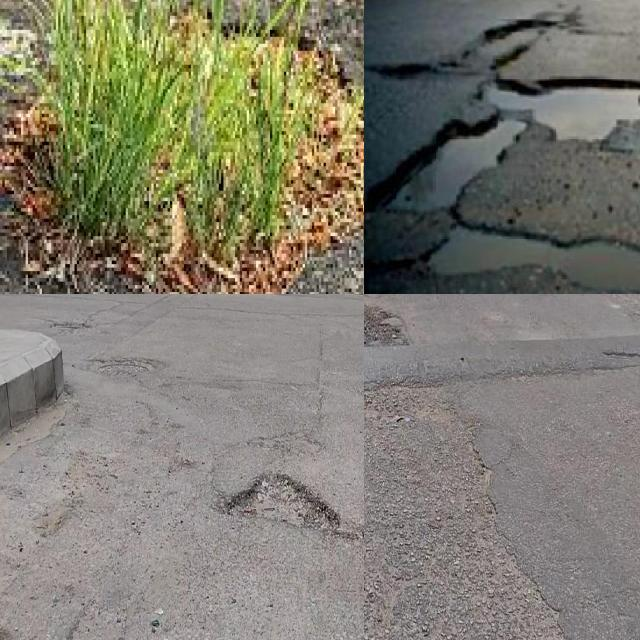Pothole: (37, 0, 364, 282), (364, 116, 527, 213), (420, 227, 640, 294), (364, 20, 558, 75), (487, 78, 640, 140), (224, 469, 342, 539), (364, 310, 401, 348)
